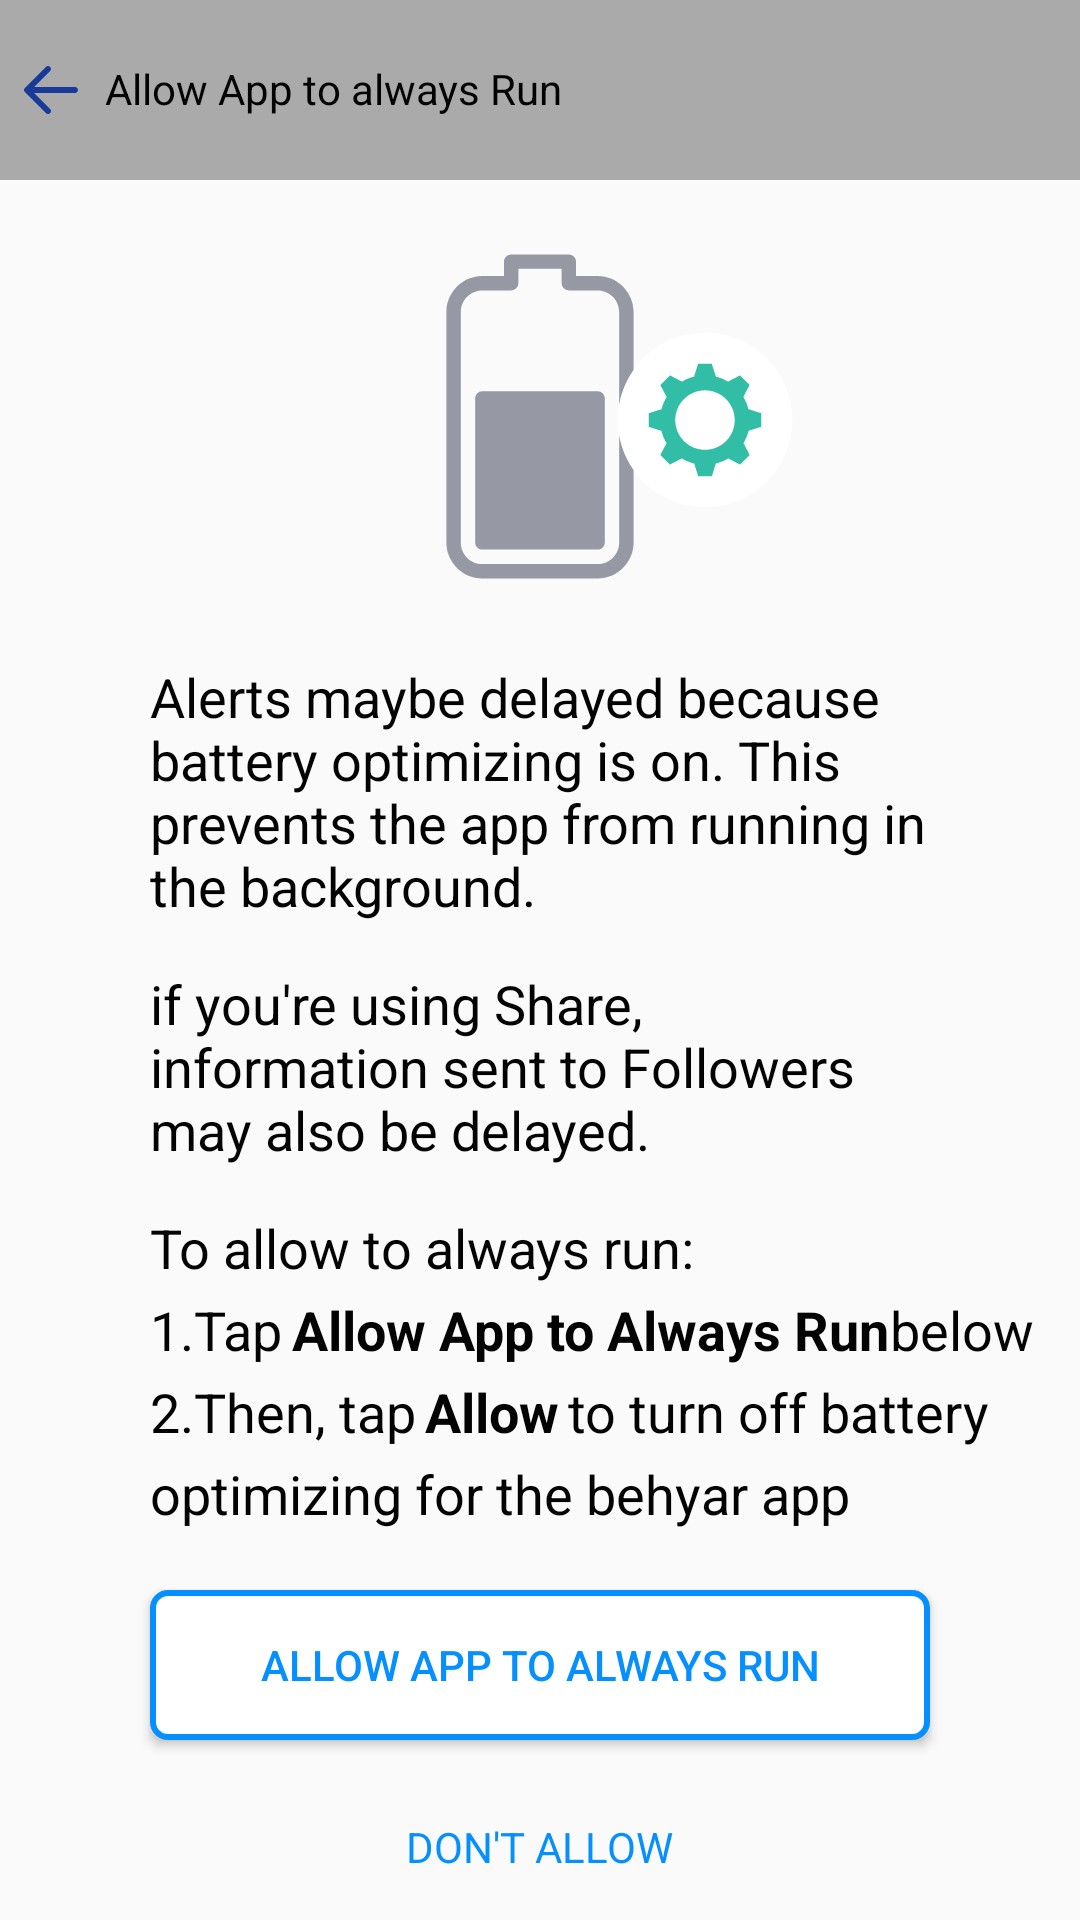

Where icons sit on this 1080x1920 app screen, as rect(x1, y1, x2, y2):
left: rect(24, 66, 78, 114)
